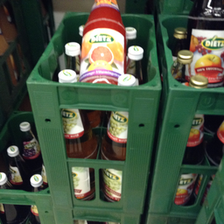juice: (54, 66, 97, 197), (98, 74, 139, 202), (79, 1, 124, 85)
